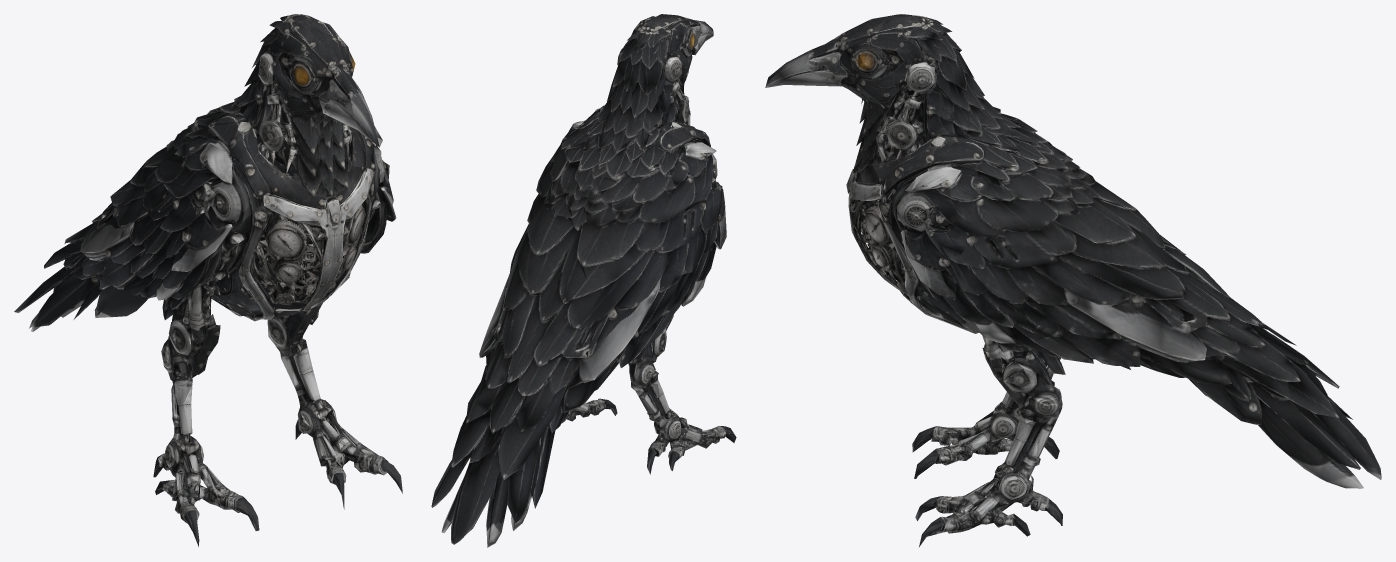
Rendered from crow.glb.
3 renders of one model, left to right at view 1: azimuth 30°, elevation 25°; view 2: azimuth 150°, elevation 25°; view 3: azimuth 270°, elevation 25°, orthographic. The views are drawn at different scales.
Parts seen in each view (by area): view 1: output_unwrapped; view 2: output_unwrapped; view 3: output_unwrapped.
Boxes of the visible parts, x1=… form: output_unwrapped: x1=14, y1=14, x2=402, y2=546; output_unwrapped: x1=431, y1=14, x2=736, y2=547; output_unwrapped: x1=765, y1=14, x2=1381, y2=546.
Bounding box in the file's own units: 0.0539 × 0.12 × 0.1392.
Materials: 1 (1 with a texture image).
